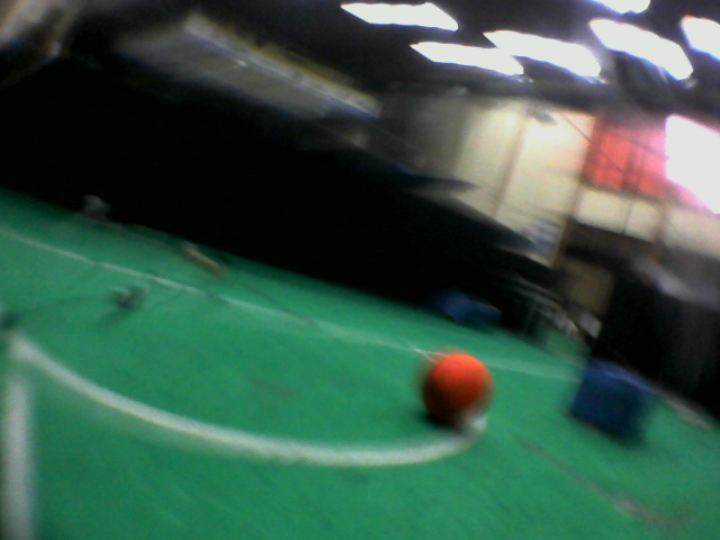bola: (411, 342, 500, 430)
